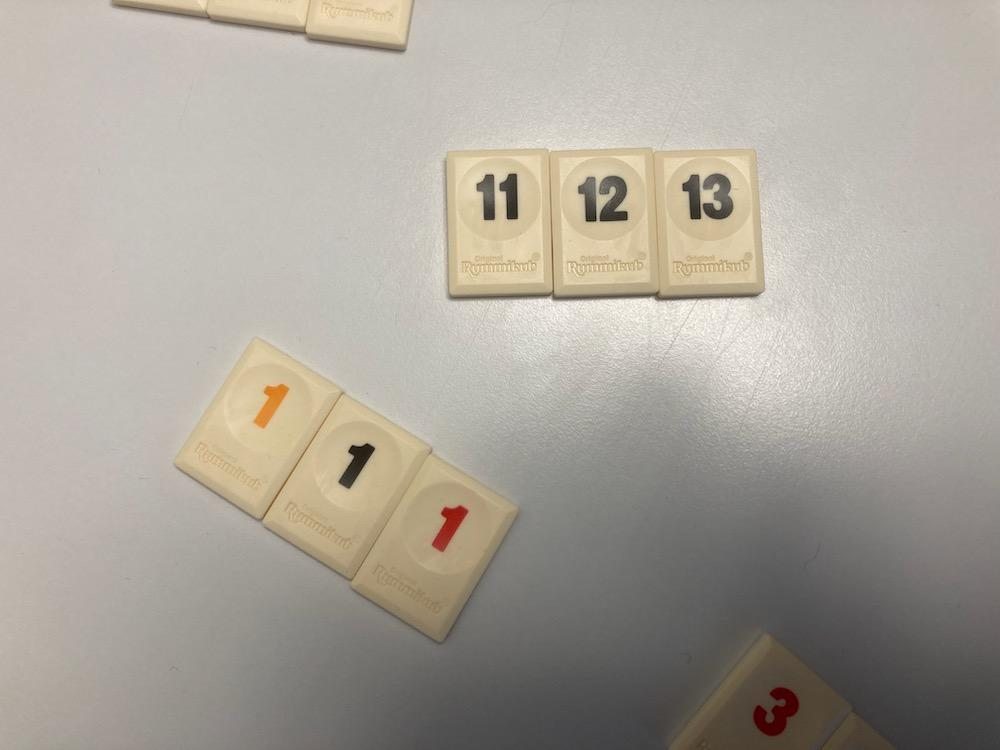black_1: (264, 395, 430, 578)
black_11: (448, 148, 553, 295)
black_12: (552, 148, 658, 296)
black_13: (655, 148, 764, 296)
orange_1: (178, 338, 342, 518)
red_1: (352, 455, 518, 641)
red_3: (673, 635, 852, 750)
